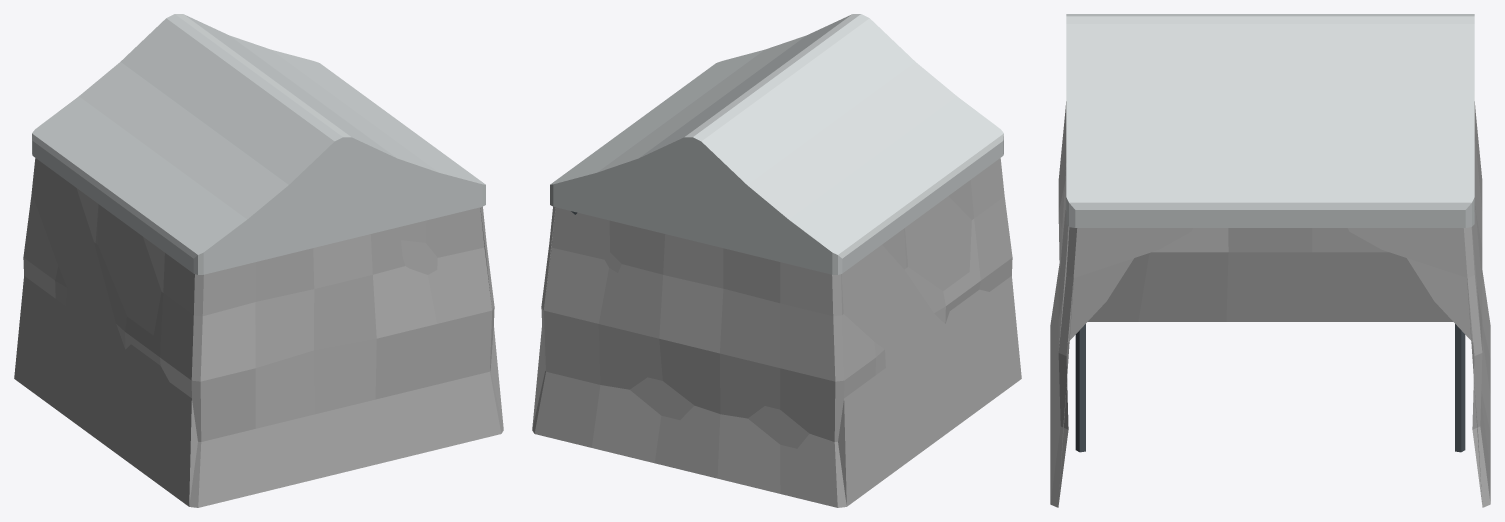
The model's file is rowtentopen.fbx.
The picture shows the model from 3 angles, left to right: view 1: azimuth 30°, elevation 25°; view 2: azimuth 150°, elevation 25°; view 3: azimuth 270°, elevation 25°; orthographic projection. The views are drawn at different scales.
Visible parts, largest first — view 1: 立方体.001, 立方体; view 2: 立方体.001, 立方体; view 3: 立方体, 立方体.001, 円柱.
Part boxes in pixels (x1,y1,x2,y2): 立方体.001: (14,158,503,507); 立方体: (32,14,485,274); 立方体.001: (532,158,1021,507); 立方体: (550,14,1003,274); 立方体: (1066,14,1474,227); 立方体.001: (1050,101,1490,507); 円柱: (1075,324,1465,452).
Bounding box in the file's own units: 216 × 215 × 216.
